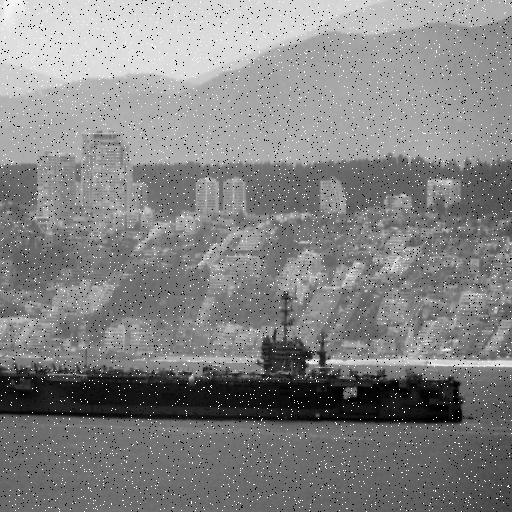Portanaves: (1, 283, 470, 430)
